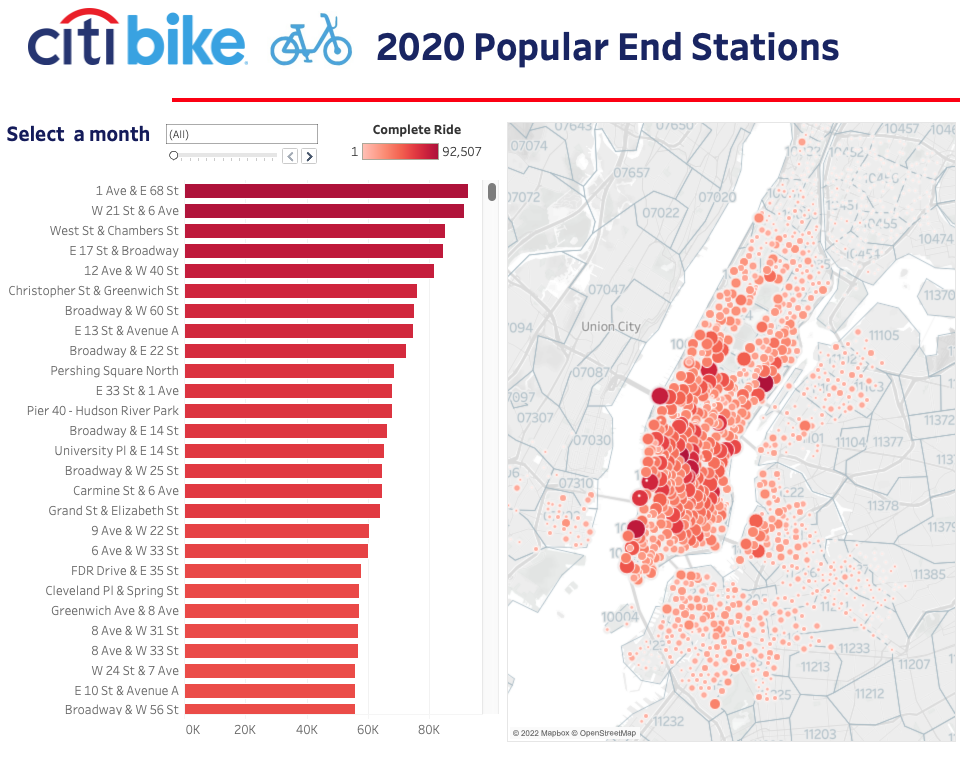

Layout of this report page (visuals, bound fields, positions):
{"tool":"tableau","page":{"name":"Top10 End","canvas":[1000,800],"ordinal":3},"visuals":[{"type":"text","box":[390,22,554,89]},{"type":"image","param":"/Users/ph/Documents/GT_boocamp/MyDataHW/18-Tableau/CitiBike_with_Tableau/images/","box":[44,30,220,71]},{"type":"image","param":"/Users/ph/Documents/GT_boocamp/MyDataHW/18-Tableau/CitiBike_with_Tableau/images/","box":[283,33,92,58]},{"type":"blank","box":[188,120,788,4]},{"type":"text","box":[20,140,203,30]},{"type":"legend","title":"Top 10 End","param":"[federated.15etc871yccgjx1fkuift1ttqsjp].[usr:Calculation_5693394420685565953:qk","box":[363,142,140,46]},{"type":"filter","title":"Top 10 End","param":"[federated.15etc871yccgjx1fkuift1ttqsjp].[mn:Calculation_5693394420685254656:ok]","box":[179,143,158,52]},{"type":"worksheet","title":"Map End","mark":"Automatic","rows":["end station latitude (end!stations)"],"cols":["end station longitude (end!stations)"],"box":[523,144,450,621]},{"type":"worksheet","title":"Top 10 End","mark":"Automatic","rows":["end station name (end!stations)"],"cols":["Calculation_5693394420685565953"],"box":[8,202,508,564]}]}

Visuals, with their boxes in screenshot pixels (x1, y1, x2, y2), scaled from the page's 1000x800 canvas onto the 972x773 screenshot:
text: 379:21:918:107
image: 43:29:257:98
image: 275:32:364:88
blank: 183:116:949:120
text: 19:135:217:164
"Top 10 End" legend: 353:137:489:182
"Top 10 End" filter: 174:138:328:188
"Map End" worksheet: 508:139:946:739
"Top 10 End" worksheet: 8:195:502:740
